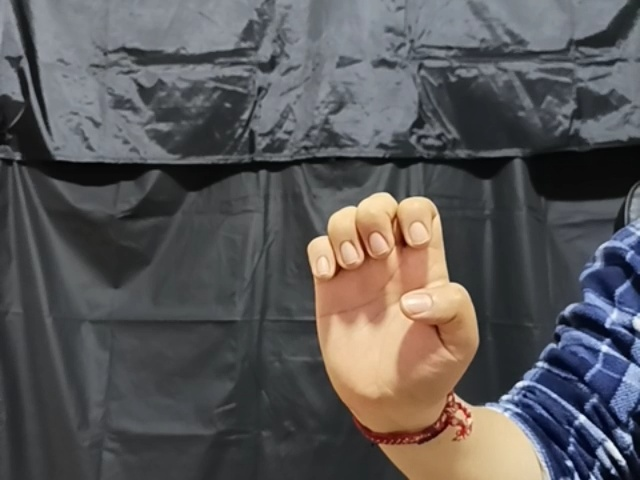E: (302, 188, 484, 421)
